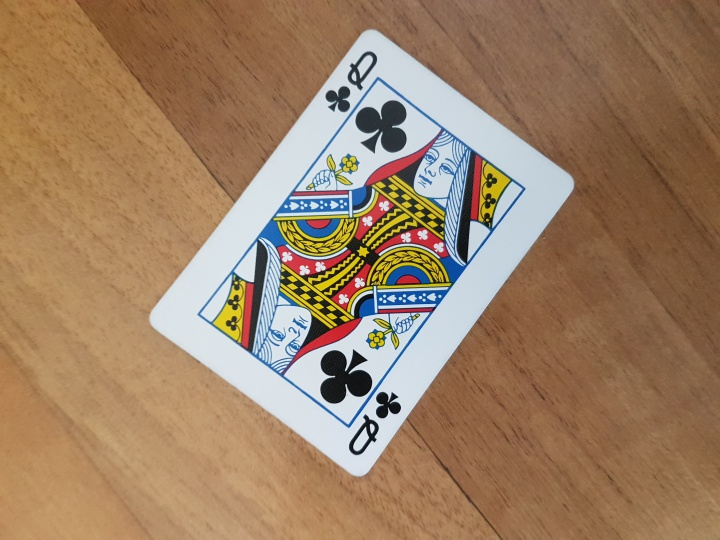queen: (135, 19, 581, 500)
